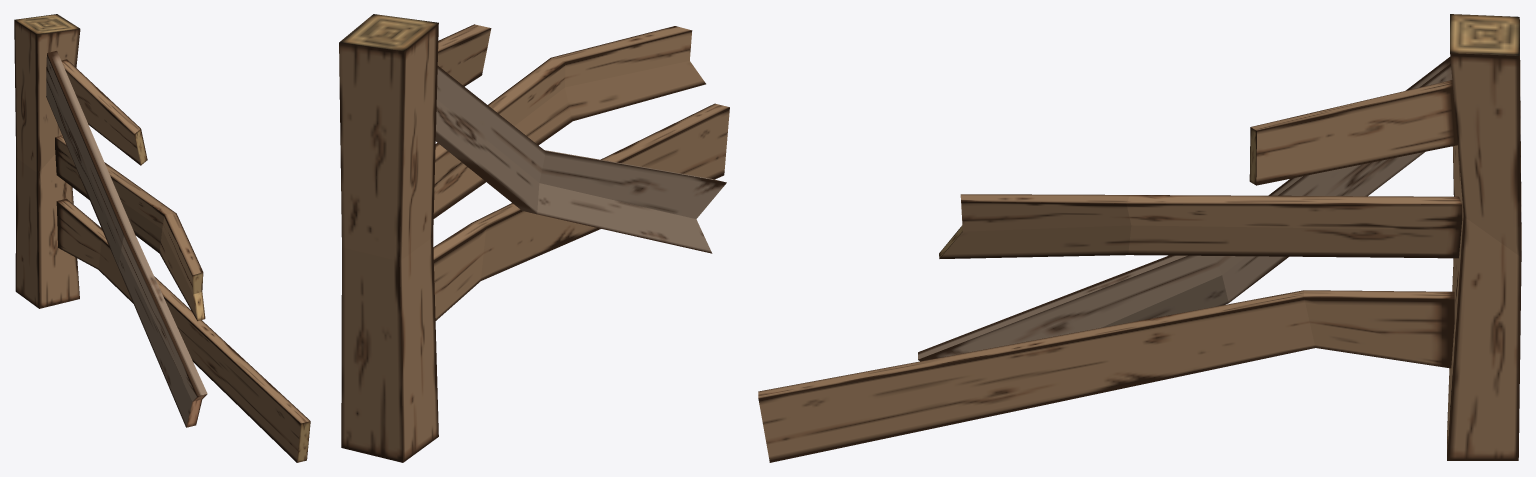
File: płot1_uszkodzony.fbx
3 views of the same model, side by side, from view 1: azimuth 30°, elevation 25°; view 2: azimuth 150°, elevation 25°; view 3: azimuth 270°, elevation 25° (orthographic). The views are drawn at different scales.
Visible parts, largest first — view 1: płot1 uszkodzony; view 2: płot1 uszkodzony; view 3: płot1 uszkodzony.
Boxes of the visible parts, <box> form: płot1 uszkodzony: <box>14,14,310,462</box>; płot1 uszkodzony: <box>339,14,729,462</box>; płot1 uszkodzony: <box>758,14,1521,462</box>.
Size of the model in its own units: 31.12 by 131 by 217.
Materials: 1 (1 with a texture image).
